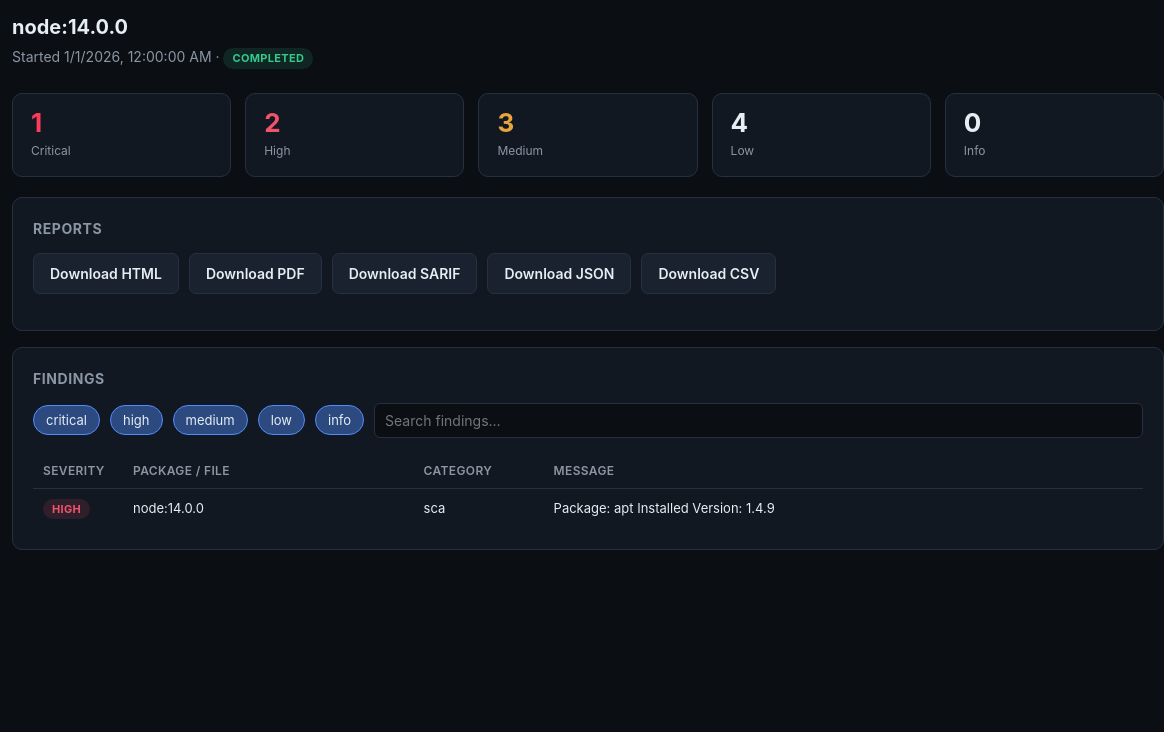
Scenario: RegistryScanDetail › expands a finding row to show its rule and remediation, and collapses on a second click
Check: the text "Upgrade to the fixed version named in the message." is not shown
Click the text "Package: apt Installed Version: 1.4.9": (664,508) [544,488,1143,529]
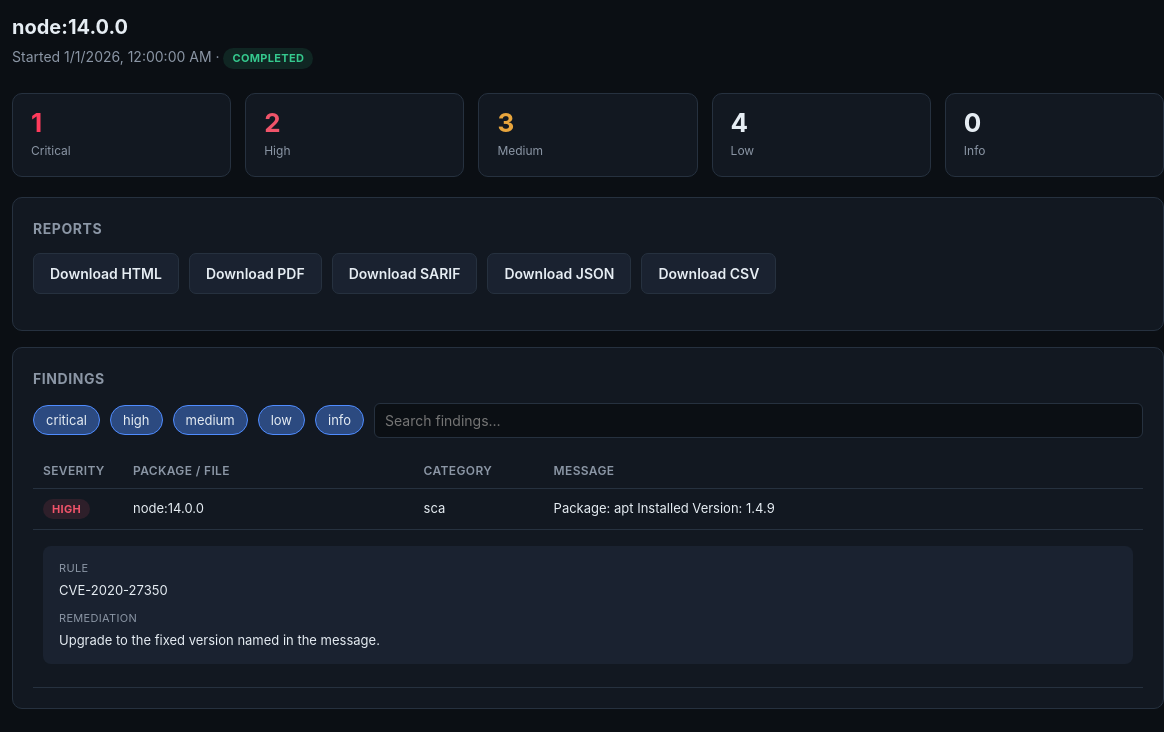
Check: the text "Upgrade to the fixed version named in the message." is shown, box [59,632,380,648]
Check: the text "CVE-2020-27350" is shown, box [59,582,168,598]
Click the text "Package: apt Installed Version: 1.4.9": (843,509) [544,488,1143,530]
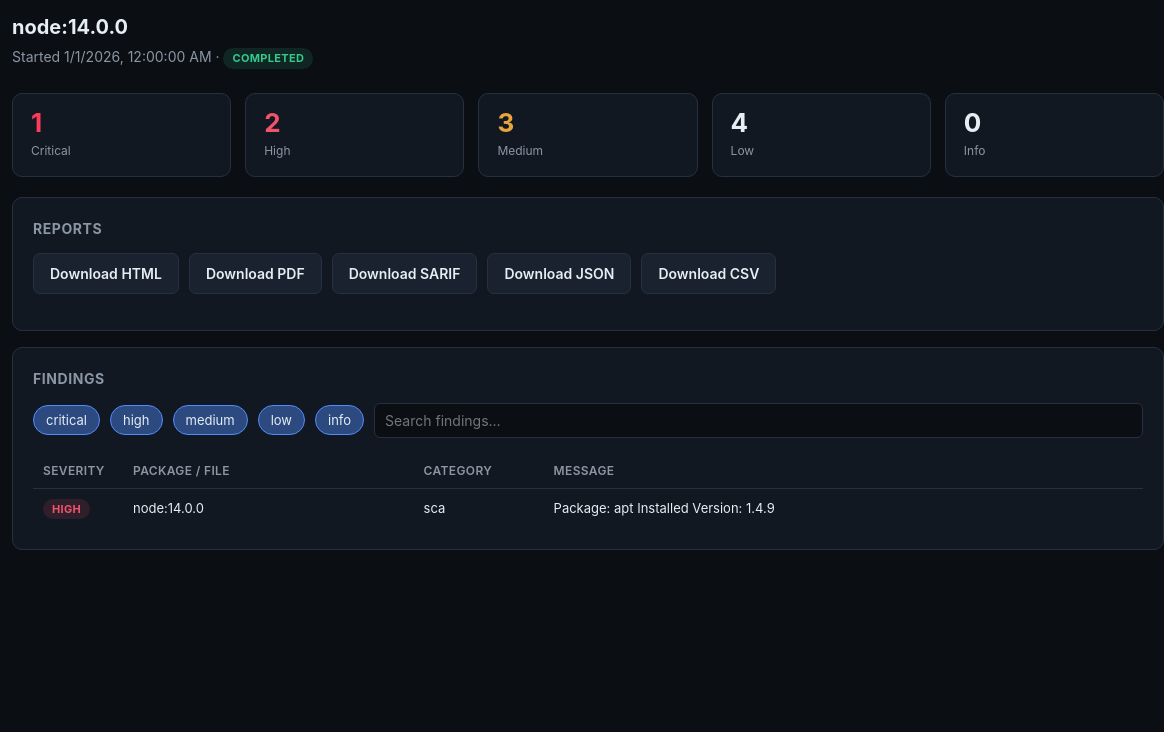
Check: the text "Upgrade to the fixed version named in the message." is gone
